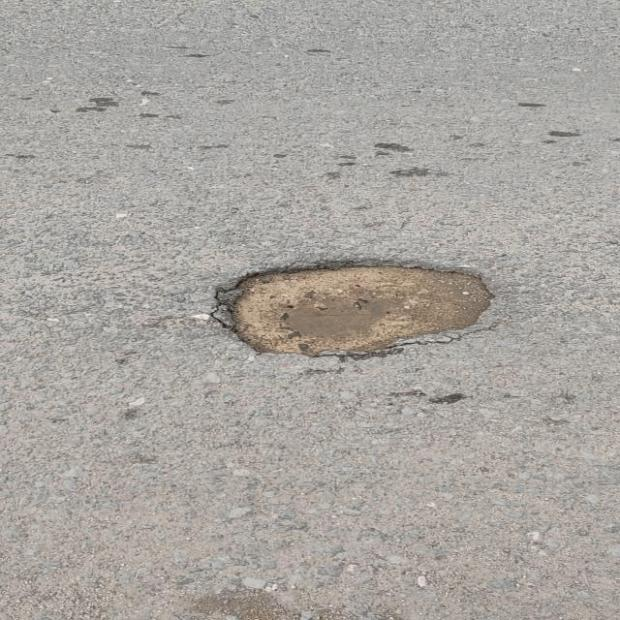lubang: (213, 263, 492, 356)
